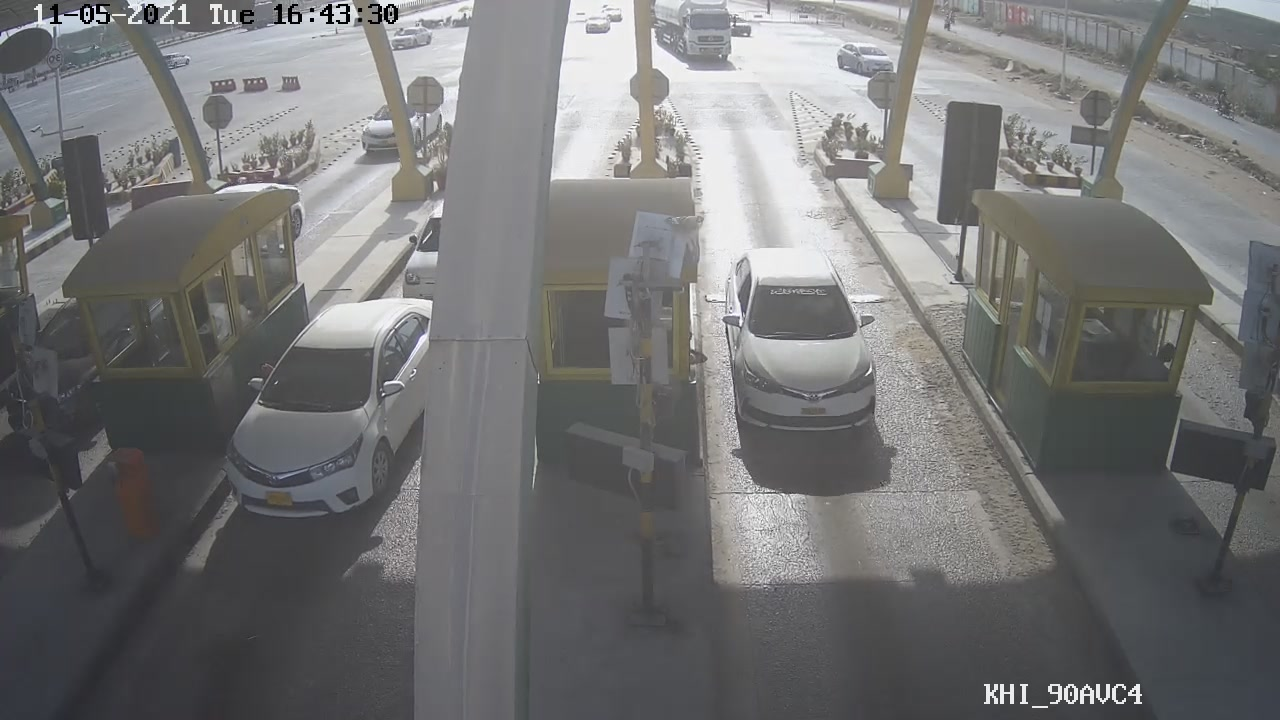F1: (716, 244, 883, 436)
